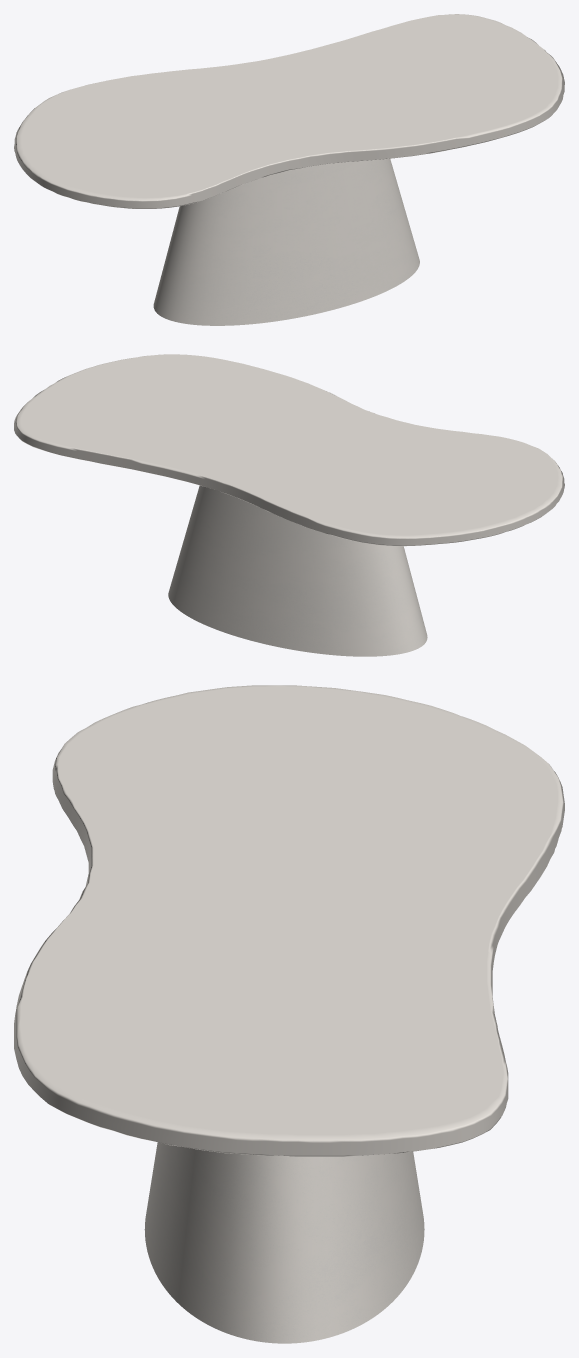
File: pearlwhite_wave_round_eqone.glb
3 renders of one model, top to bottom at view 1: azimuth 30°, elevation 25°; view 2: azimuth 150°, elevation 25°; view 3: azimuth 270°, elevation 25°, orthographic. The views are drawn at different scales.
Visible parts, largest first — view 1: round_wave, eqone; view 2: round_wave, eqone; view 3: round_wave, eqone.
Part boxes in pixels (x1=…): round_wave: x1=14, y1=14, x2=564, y2=208; eqone: x1=153, y1=158, x2=419, y2=325; round_wave: x1=14, y1=354, x2=564, y2=546; eqone: x1=168, y1=485, x2=427, y2=656; round_wave: x1=14, y1=685, x2=564, y2=1156; eqone: x1=144, y1=1142, x2=424, y2=1343.
Size of the model in its own units: 7.7 by 2.5 by 3.89.
Materials: 1 (1 with a texture image).
